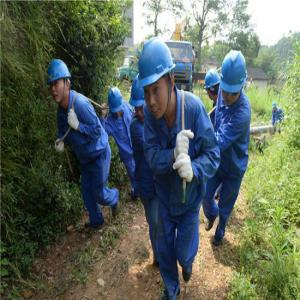blue: (138, 38, 177, 124), (220, 51, 249, 108), (47, 59, 71, 104), (131, 75, 150, 126), (109, 87, 124, 119), (205, 70, 220, 100), (273, 103, 278, 113)
